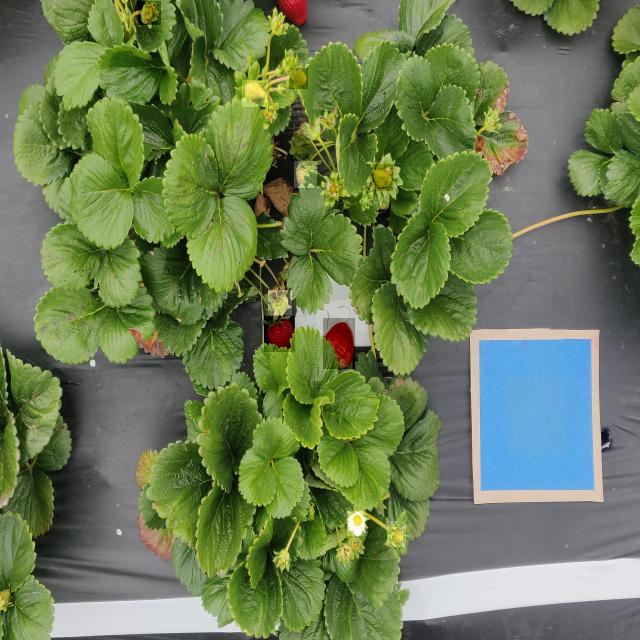partially-ripe: (273, 548, 293, 570)
ripe: (242, 80, 269, 108), (294, 161, 318, 189), (268, 290, 293, 316), (372, 164, 394, 192), (138, 1, 162, 26), (388, 521, 408, 548), (347, 511, 367, 537), (324, 178, 344, 203), (289, 68, 309, 90)
unripe: (323, 318, 356, 371), (264, 316, 296, 353)
